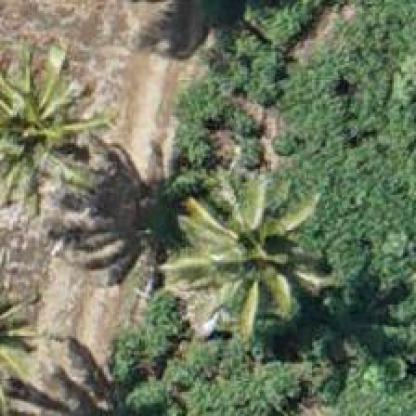coconut tree: (165, 178, 324, 344), (2, 41, 112, 228)
